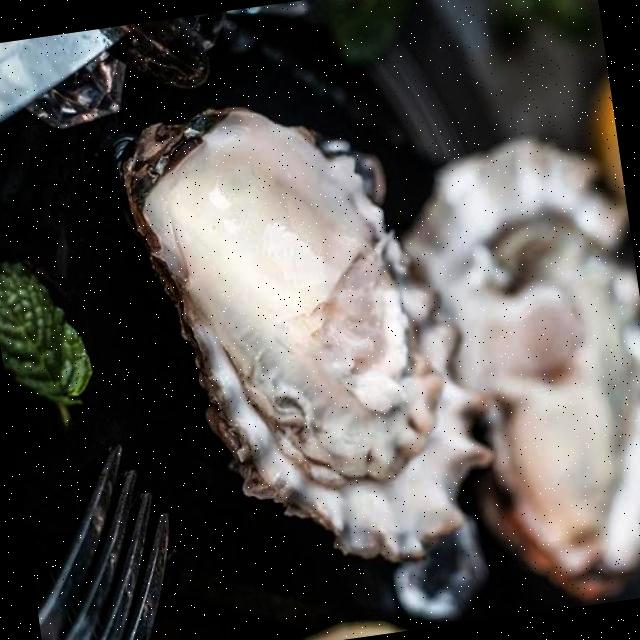Oyster-Open: (123, 105, 493, 562), (398, 135, 640, 601)
